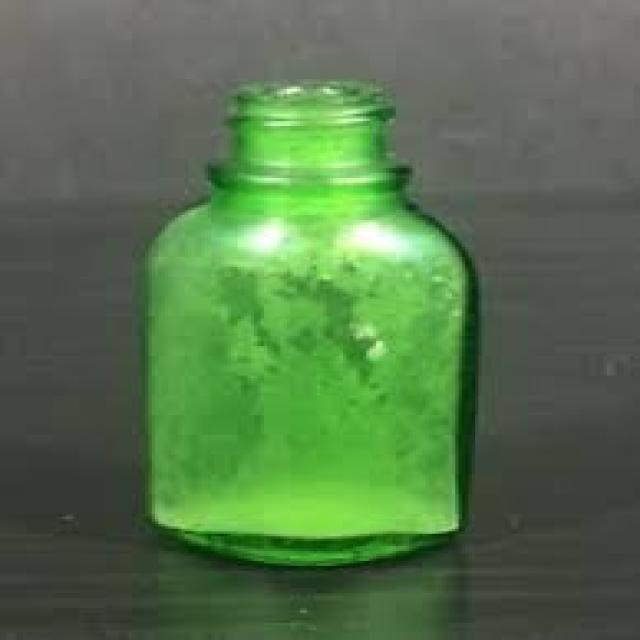glass: (135, 79, 475, 568)
